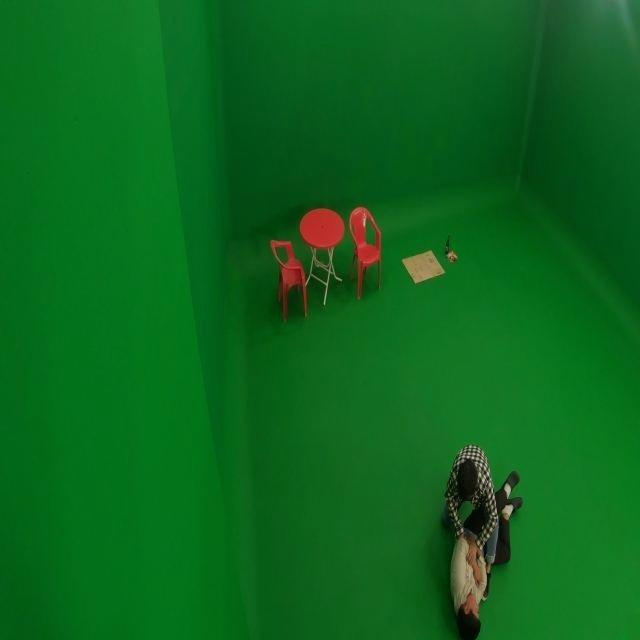fight: (438, 440, 522, 639)
